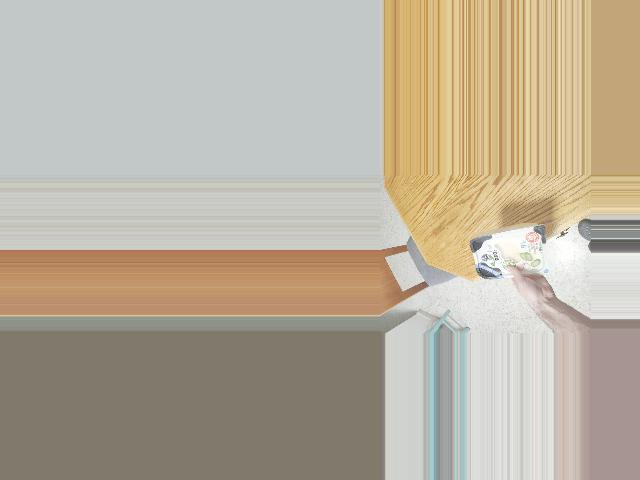cheese: (470, 223, 547, 281)
